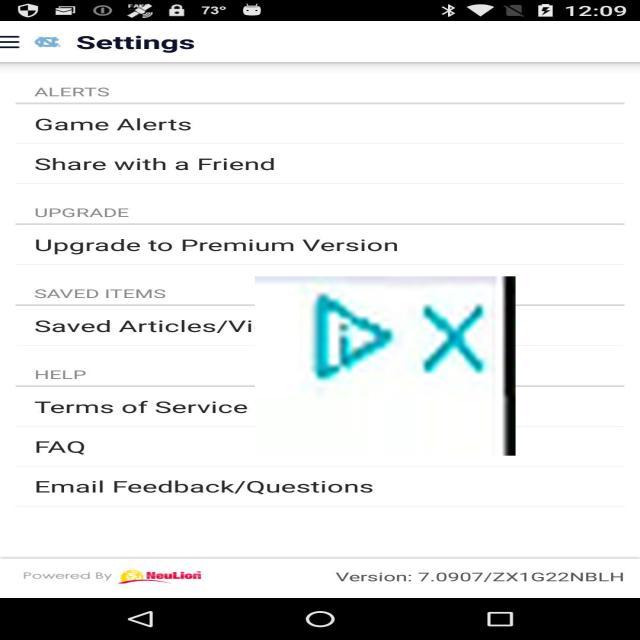sneaking: (255, 276, 515, 456)
